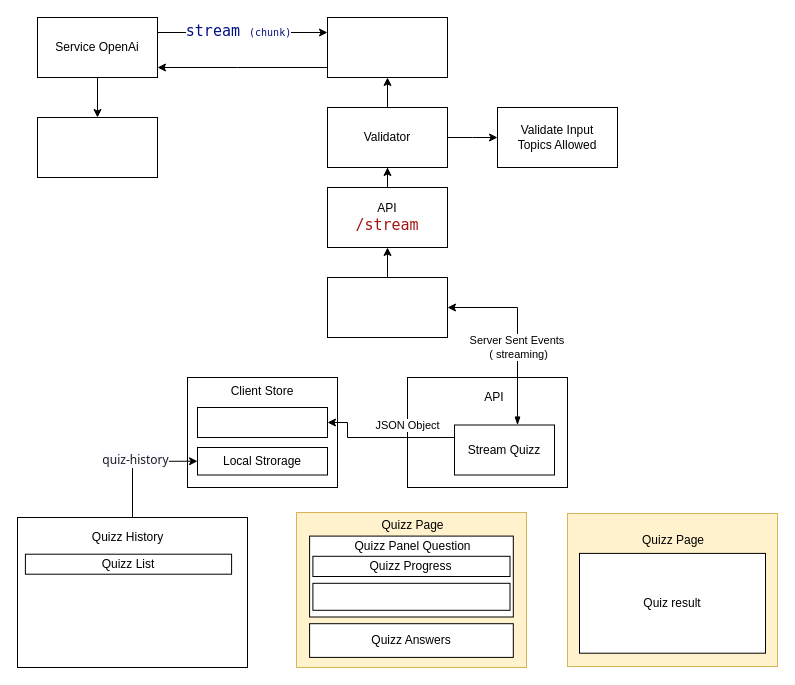
The diagram is 795 pixels wide and 685 high, and some of its shapes have lost their labels. Here are the shapes that lost their labels. From the top down, the box of each, then its label:
(326, 16, 448, 78): Controller
(36, 116, 158, 178): Prompt
(326, 276, 448, 338): Server
(196, 406, 328, 438): React State
(312, 582, 510, 610): Quizz Question
